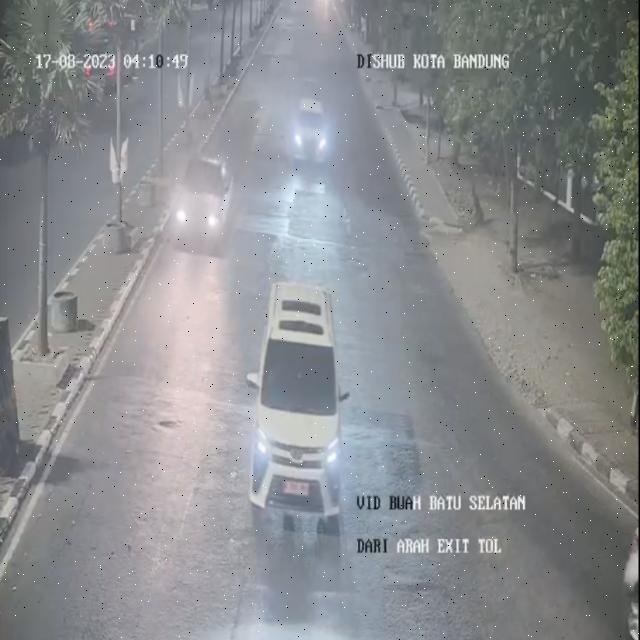cars: (248, 270, 343, 526), (172, 144, 242, 252), (289, 90, 336, 176)
